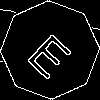E: (25, 25, 80, 81)
